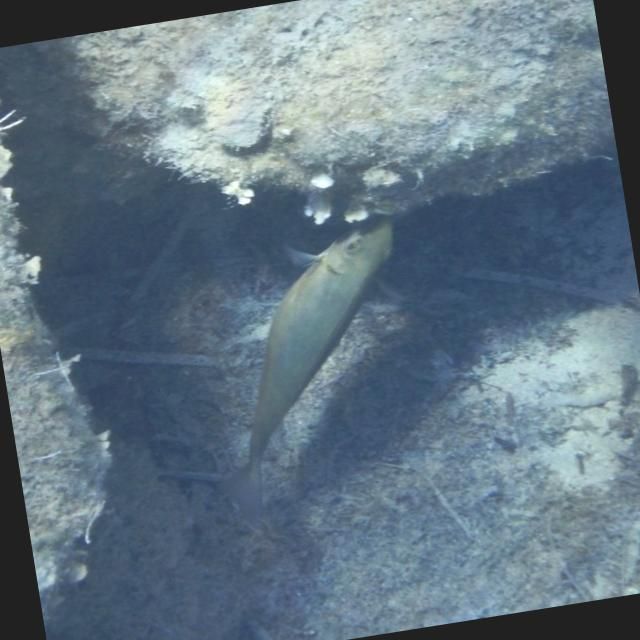Sokar Baligi: (157, 202, 458, 538)
